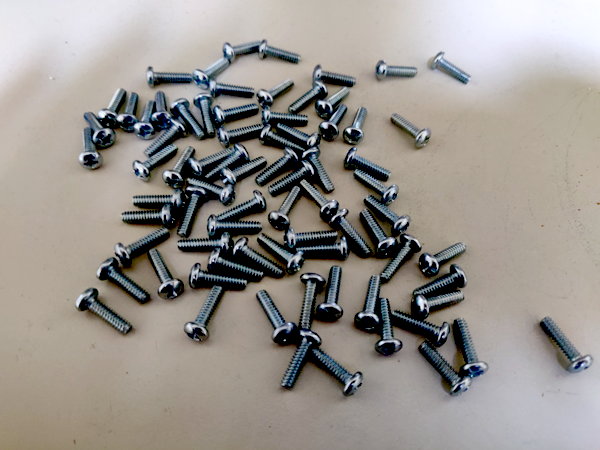shortscrew: (419, 341, 472, 397), (542, 317, 594, 374), (76, 288, 134, 336), (280, 329, 323, 392), (309, 347, 363, 396), (96, 257, 150, 305), (184, 286, 225, 343), (114, 227, 170, 266), (256, 290, 297, 343), (380, 234, 423, 284), (329, 208, 372, 258), (392, 311, 450, 348), (454, 318, 489, 379), (232, 237, 284, 278), (148, 249, 186, 301), (363, 195, 411, 236), (360, 209, 398, 259), (255, 146, 301, 187), (208, 248, 264, 281), (352, 167, 400, 205), (268, 159, 317, 196), (133, 143, 179, 182), (413, 265, 467, 298), (143, 118, 187, 158), (203, 143, 249, 181), (214, 190, 266, 223), (343, 147, 392, 182), (299, 179, 339, 221), (419, 243, 468, 277), (177, 186, 209, 238), (412, 290, 467, 320), (170, 98, 207, 142), (188, 146, 238, 178), (302, 147, 336, 194), (189, 263, 248, 290), (355, 275, 383, 331), (376, 298, 403, 356), (299, 273, 326, 331), (268, 185, 302, 231), (162, 145, 196, 188), (220, 156, 268, 186), (317, 266, 343, 321), (430, 52, 472, 86), (391, 115, 431, 150), (186, 177, 236, 205), (288, 82, 329, 116), (177, 231, 233, 255), (260, 124, 307, 152), (121, 204, 176, 227), (83, 111, 117, 148), (207, 215, 264, 237), (98, 88, 128, 129), (276, 123, 321, 150), (217, 124, 263, 149), (258, 39, 302, 65), (257, 79, 295, 109), (316, 88, 350, 120), (212, 103, 259, 126), (194, 60, 230, 90), (319, 105, 348, 142), (79, 127, 103, 171), (193, 94, 217, 138), (146, 66, 192, 88), (343, 106, 368, 146), (314, 64, 357, 87), (209, 78, 256, 99), (134, 98, 156, 141), (117, 92, 140, 131), (151, 91, 173, 129), (376, 60, 417, 80), (223, 40, 262, 61)
